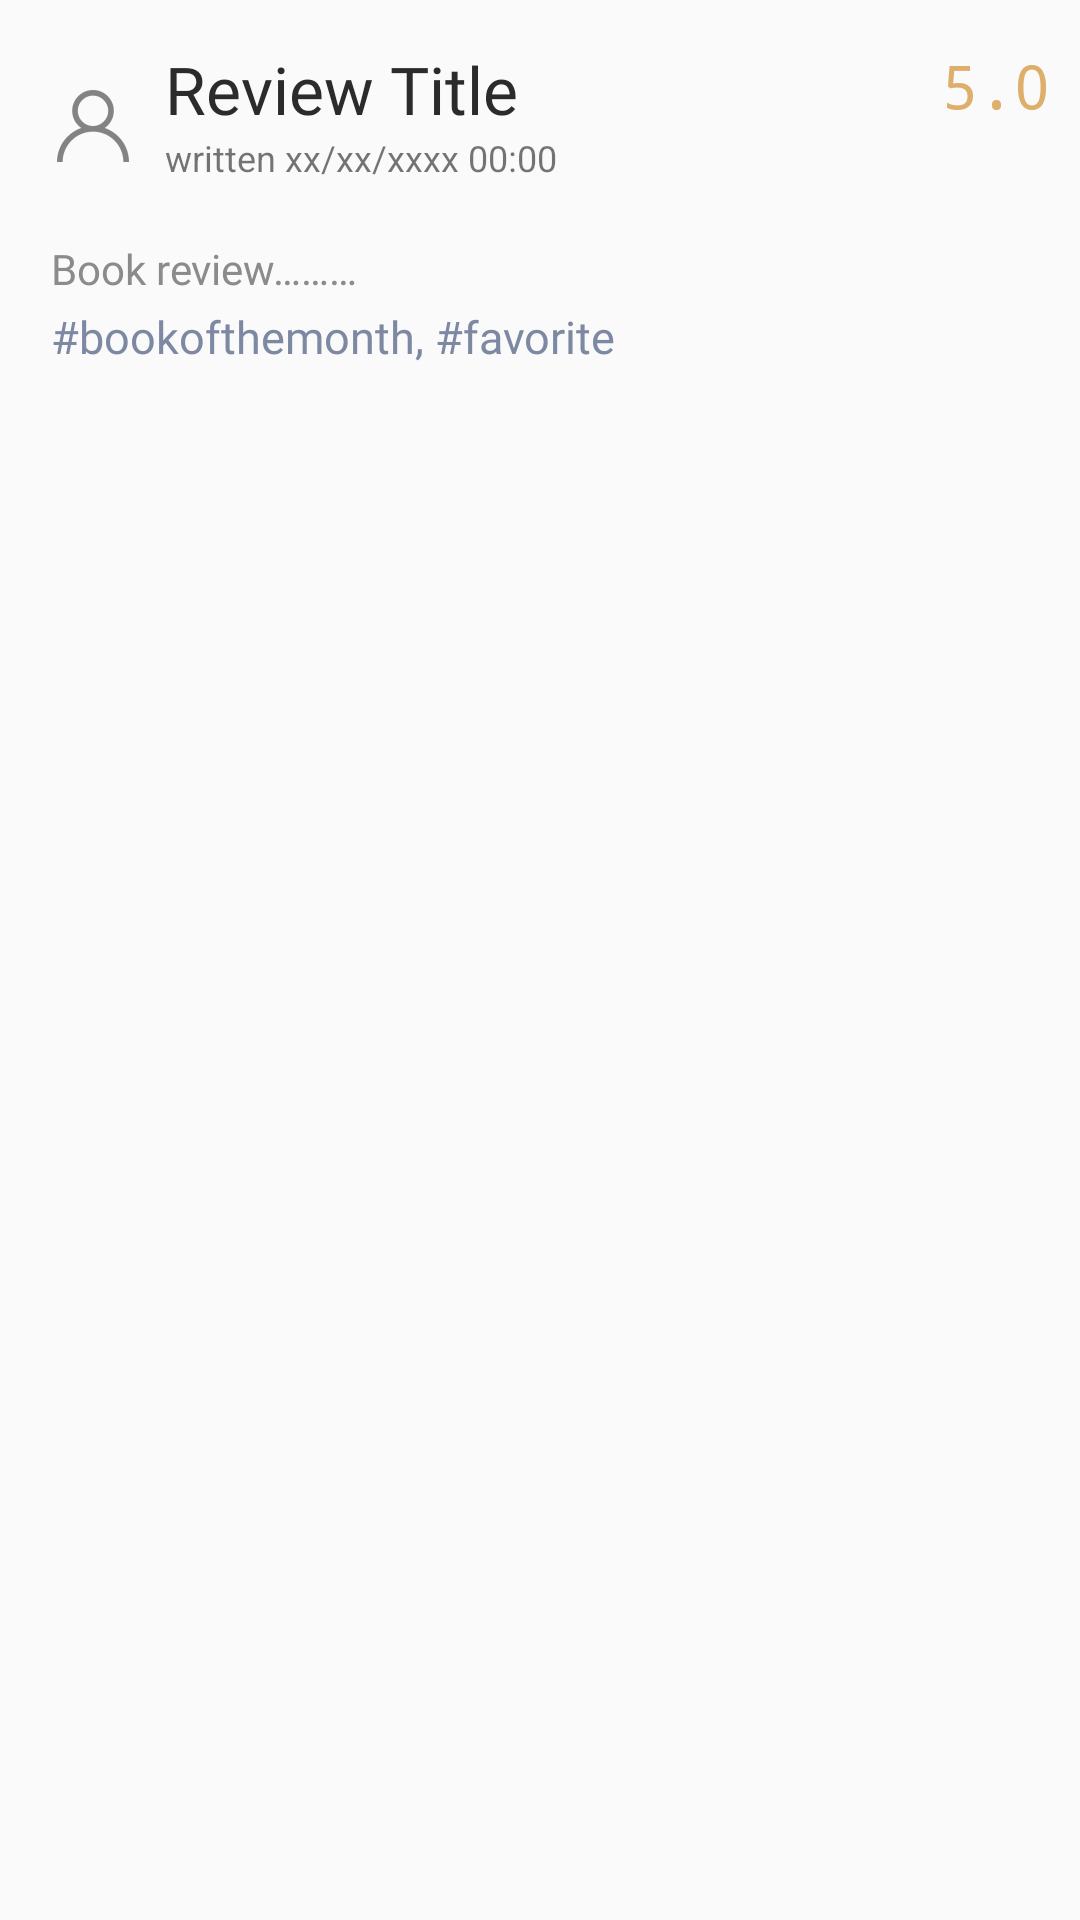

Icon bounding boxes for this 1080*1920 phone screenshot, format (x1, y1, x2, y2):
user: (57, 90, 129, 162)
